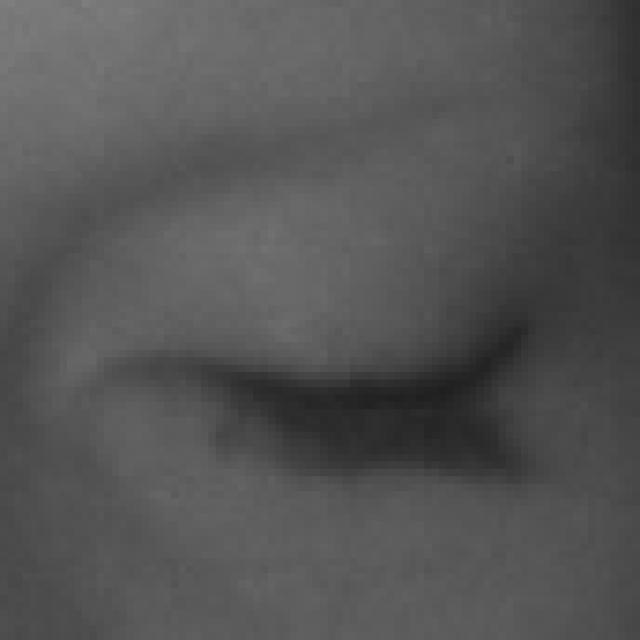Eyeclosed: (108, 203, 523, 574)
